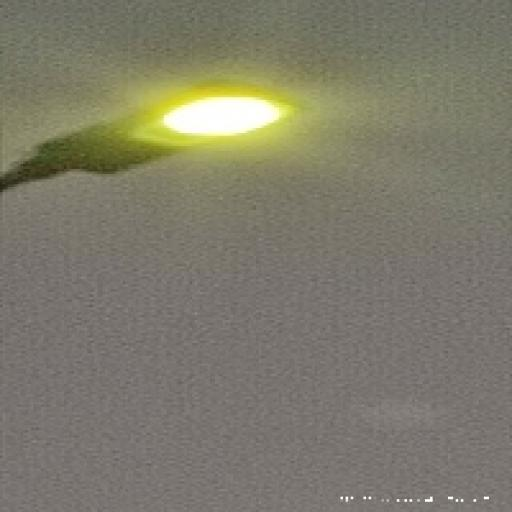Working: (28, 66, 323, 224)
